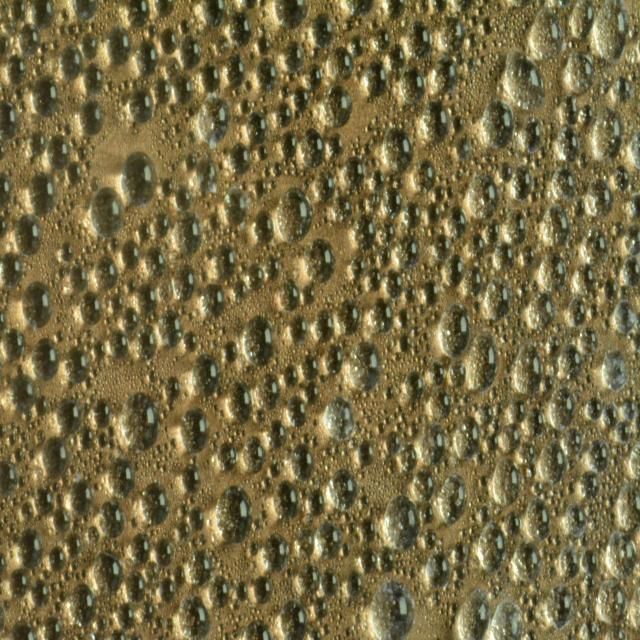dr: (371, 579, 414, 640), (506, 50, 545, 112), (122, 395, 160, 451), (214, 485, 252, 541), (594, 1, 628, 61), (383, 496, 420, 551), (467, 330, 498, 394), (121, 153, 159, 205), (277, 188, 313, 241), (438, 303, 472, 356), (89, 189, 125, 238), (20, 280, 54, 330), (242, 316, 275, 366), (528, 12, 563, 59), (594, 106, 622, 164), (481, 100, 514, 149), (198, 95, 230, 145), (348, 342, 381, 389), (459, 590, 490, 640), (420, 97, 450, 148), (303, 240, 337, 285), (490, 595, 524, 640), (316, 86, 355, 125), (93, 549, 124, 598), (27, 171, 59, 217), (323, 396, 356, 440), (439, 476, 468, 526), (607, 532, 636, 581), (479, 523, 507, 573), (383, 127, 414, 172), (181, 407, 210, 455), (492, 458, 521, 506), (178, 596, 210, 639), (512, 540, 543, 584), (537, 441, 568, 484), (542, 204, 570, 251), (191, 354, 220, 398), (548, 387, 576, 432), (517, 344, 541, 396), (31, 76, 61, 117), (598, 583, 627, 625), (106, 458, 137, 497), (279, 600, 309, 640), (455, 415, 481, 461), (547, 586, 574, 630), (69, 583, 97, 625), (485, 278, 513, 320), (470, 175, 498, 217), (566, 53, 594, 95), (420, 421, 446, 466), (15, 215, 44, 255), (327, 471, 358, 508), (175, 213, 202, 255), (42, 438, 70, 478), (142, 484, 170, 524), (226, 381, 252, 424), (327, 45, 354, 86), (273, 481, 301, 520), (32, 340, 59, 380), (526, 496, 550, 541), (273, 0, 310, 29), (539, 253, 568, 290), (582, 226, 608, 267), (602, 354, 630, 392), (405, 19, 432, 58), (11, 375, 38, 414), (262, 534, 289, 572), (618, 485, 640, 531), (432, 58, 458, 96), (426, 552, 452, 590), (80, 97, 105, 136), (395, 232, 420, 271), (317, 521, 342, 560), (529, 294, 556, 330), (212, 243, 238, 280), (312, 11, 336, 51), (400, 64, 424, 104), (243, 436, 267, 476), (224, 187, 249, 225), (369, 298, 394, 336), (65, 346, 90, 384), (570, 0, 595, 38), (587, 180, 614, 215), (60, 42, 84, 81), (300, 131, 326, 167), (438, 19, 465, 53), (185, 551, 212, 585), (107, 26, 131, 64), (159, 312, 183, 350), (70, 476, 94, 514), (19, 530, 43, 568), (587, 436, 611, 474), (291, 445, 315, 482), (0, 99, 20, 143), (129, 87, 154, 122), (100, 503, 125, 538), (94, 256, 118, 292), (56, 400, 80, 436), (194, 158, 217, 195), (257, 373, 280, 410), (352, 214, 377, 248), (48, 132, 70, 170), (135, 40, 158, 76), (246, 109, 269, 145), (1, 252, 24, 288), (253, 208, 275, 245), (173, 264, 195, 301), (255, 57, 278, 92), (558, 126, 579, 164), (19, 24, 41, 60), (135, 324, 157, 360), (413, 469, 437, 502), (504, 212, 528, 245), (337, 300, 360, 334), (201, 283, 224, 317), (499, 424, 525, 454), (512, 161, 532, 200), (411, 162, 436, 193), (564, 503, 586, 538), (560, 347, 584, 379), (365, 63, 388, 96), (80, 293, 103, 326), (522, 115, 543, 151), (180, 36, 202, 70), (314, 170, 336, 204), (428, 389, 452, 420), (223, 55, 244, 90), (332, 193, 353, 228), (524, 404, 546, 437), (560, 545, 580, 581), (574, 262, 594, 298), (552, 170, 576, 200), (279, 280, 300, 314), (283, 42, 306, 73), (252, 575, 275, 606), (82, 63, 104, 95), (136, 282, 158, 314), (209, 575, 229, 610), (230, 13, 251, 46), (4, 328, 25, 361), (614, 299, 635, 332), (313, 310, 335, 341), (346, 159, 366, 193), (580, 468, 600, 502), (121, 238, 142, 270), (381, 186, 402, 218), (130, 534, 151, 566), (68, 264, 90, 294), (243, 618, 273, 640), (298, 565, 320, 595), (145, 248, 166, 279), (345, 570, 366, 601), (0, 461, 18, 497), (492, 244, 515, 272), (6, 54, 27, 84), (126, 571, 145, 604), (126, 1, 150, 27), (445, 255, 465, 286), (446, 207, 466, 238), (288, 314, 310, 342), (109, 329, 130, 358), (294, 529, 315, 558), (31, 3, 55, 28), (287, 395, 307, 425), (580, 326, 600, 356), (561, 431, 584, 457), (27, 128, 48, 156), (153, 538, 174, 566), (202, 62, 222, 91), (9, 569, 29, 598), (612, 76, 632, 105), (272, 102, 294, 128), (506, 399, 528, 425), (232, 144, 251, 174), (35, 487, 54, 517), (463, 266, 482, 296), (217, 443, 237, 471), (403, 201, 421, 232), (561, 94, 579, 125), (182, 463, 201, 492), (203, 0, 225, 25), (432, 234, 453, 260), (9, 622, 39, 640), (568, 297, 586, 327), (465, 233, 485, 260), (175, 76, 194, 104), (152, 78, 172, 104), (580, 549, 600, 575), (343, 0, 375, 16), (325, 346, 343, 374), (268, 421, 286, 449), (398, 444, 416, 472), (32, 580, 50, 608), (405, 373, 424, 399), (386, 270, 403, 299), (309, 489, 326, 518), (247, 264, 265, 291), (448, 360, 466, 387), (0, 170, 12, 210), (321, 569, 338, 597), (73, 0, 99, 18), (95, 400, 113, 426), (388, 44, 405, 71), (379, 218, 396, 245), (305, 66, 324, 90), (303, 350, 318, 380), (358, 441, 376, 466), (624, 228, 640, 256), (159, 578, 176, 604), (623, 260, 640, 286), (281, 131, 297, 158), (117, 604, 135, 628), (614, 164, 630, 191), (328, 133, 345, 158), (158, 278, 175, 303), (505, 513, 522, 538), (161, 27, 176, 55), (630, 590, 640, 632), (384, 0, 406, 19), (122, 307, 138, 333), (50, 546, 66, 572), (630, 129, 640, 170), (153, 215, 170, 239), (420, 280, 437, 304), (614, 419, 631, 443), (456, 137, 473, 161), (366, 267, 382, 292), (349, 257, 365, 282), (372, 29, 391, 50), (44, 618, 62, 640), (188, 508, 205, 531), (361, 548, 376, 574), (378, 546, 393, 572), (629, 444, 640, 479), (293, 86, 309, 110), (430, 362, 446, 386), (83, 32, 97, 59), (176, 184, 191, 209), (223, 341, 240, 363), (54, 509, 70, 532), (387, 431, 402, 455), (11, 0, 28, 21), (165, 378, 181, 400), (519, 441, 535, 463), (520, 246, 536, 268), (604, 404, 619, 427), (452, 541, 469, 561), (146, 562, 159, 588), (369, 170, 385, 191), (427, 202, 441, 226), (265, 255, 279, 279), (80, 425, 94, 449), (66, 534, 82, 555), (361, 518, 375, 542), (283, 366, 298, 388), (167, 57, 180, 82), (155, 0, 173, 18), (379, 246, 393, 269), (604, 626, 627, 640), (214, 36, 230, 56), (586, 398, 602, 418), (68, 160, 81, 184), (581, 103, 594, 127), (0, 35, 11, 63), (306, 381, 320, 403), (422, 529, 437, 549), (623, 397, 635, 422), (486, 220, 499, 243), (254, 178, 268, 199), (301, 284, 315, 305), (234, 280, 247, 302), (183, 332, 198, 351), (351, 36, 365, 56), (92, 340, 106, 360), (313, 598, 327, 618), (420, 504, 434, 524), (546, 335, 560, 355), (2, 18, 18, 35), (160, 178, 174, 197), (61, 242, 73, 264), (397, 309, 410, 329), (110, 294, 124, 312), (176, 521, 190, 539), (478, 502, 490, 523), (428, 592, 442, 610), (486, 434, 500, 452), (630, 193, 640, 218), (258, 36, 271, 55), (368, 191, 381, 210), (138, 224, 151, 243), (142, 602, 154, 622), (604, 279, 618, 296), (35, 396, 48, 414), (399, 336, 412, 354), (87, 526, 100, 544), (480, 404, 493, 422), (581, 622, 594, 640), (499, 164, 512, 182), (434, 183, 445, 204), (236, 581, 248, 600), (574, 199, 586, 218), (178, 19, 192, 35), (167, 100, 180, 117), (239, 98, 252, 115), (452, 0, 472, 11), (584, 576, 596, 594), (506, 0, 533, 8), (175, 566, 185, 587), (177, 503, 190, 519), (532, 480, 545, 496), (631, 331, 640, 354), (404, 287, 416, 304), (186, 152, 197, 170), (210, 212, 221, 230), (358, 496, 372, 510), (22, 504, 34, 520), (590, 299, 600, 318), (629, 21, 639, 40), (0, 2, 11, 19), (109, 629, 126, 640), (0, 216, 8, 239), (147, 22, 157, 40), (258, 144, 268, 162), (0, 308, 6, 338), (0, 605, 6, 635), (478, 474, 490, 489), (482, 19, 494, 34), (270, 460, 281, 476), (614, 221, 625, 237), (18, 98, 28, 115), (98, 432, 108, 449), (434, 0, 447, 13), (417, 0, 428, 15), (272, 163, 283, 178), (340, 512, 351, 527), (453, 117, 464, 132), (90, 176, 100, 192), (457, 564, 467, 580), (635, 405, 640, 437), (488, 421, 501, 433), (357, 200, 368, 214), (0, 554, 7, 576), (240, 0, 257, 9), (249, 541, 259, 556), (409, 423, 419, 438), (342, 542, 352, 557), (548, 566, 557, 582), (468, 56, 476, 74), (78, 148, 89, 161), (367, 252, 377, 266), (148, 369, 158, 383), (384, 386, 394, 400), (527, 463, 537, 477), (590, 518, 600, 532), (34, 62, 43, 77), (8, 433, 17, 448), (88, 631, 103, 640), (469, 33, 478, 48), (185, 132, 196, 144), (14, 88, 24, 101), (262, 477, 272, 490), (526, 606, 534, 622), (568, 480, 576, 496), (127, 279, 136, 293), (55, 331, 64, 345), (451, 391, 460, 405), (601, 76, 608, 94), (61, 7, 69, 22), (342, 20, 354, 30), (70, 135, 78, 150), (56, 269, 66, 281), (585, 505, 595, 517), (606, 496, 614, 511), (518, 285, 528, 297), (580, 153, 588, 168), (479, 52, 487, 67), (40, 41, 49, 54), (520, 592, 529, 605), (409, 569, 417, 583), (376, 422, 386, 433), (231, 599, 241, 610), (462, 394, 472, 405), (37, 430, 46, 442), (494, 505, 503, 517), (489, 388, 498, 400), (565, 460, 574, 472), (363, 143, 371, 156), (18, 476, 26, 489), (189, 538, 197, 551), (630, 71, 639, 82), (16, 448, 23, 462), (533, 578, 540, 592), (545, 376, 552, 390), (312, 46, 320, 58), (106, 80, 114, 92), (244, 78, 252, 90), (370, 156, 378, 168), (200, 271, 208, 283), (85, 377, 93, 389), (302, 432, 310, 444), (301, 486, 309, 498), (98, 616, 106, 628), (313, 628, 321, 640), (527, 628, 535, 640), (206, 247, 213, 260), (397, 176, 404, 189), (0, 144, 5, 162), (203, 230, 212, 240), (480, 428, 489, 438), (494, 3, 504, 12), (302, 179, 310, 190), (387, 175, 395, 186), (390, 118, 398, 129), (76, 336, 84, 347), (43, 570, 51, 581), (366, 122, 373, 134), (28, 448, 35, 460), (199, 535, 206, 547), (533, 594, 539, 608), (486, 152, 493, 164), (539, 147, 546, 159), (451, 103, 458, 115), (494, 405, 503, 414), (322, 214, 330, 224), (108, 426, 116, 436), (58, 592, 66, 602), (155, 617, 163, 627), (476, 456, 486, 464), (530, 192, 538, 202), (249, 50, 255, 63), (0, 425, 6, 438), (614, 443, 620, 456), (430, 227, 437, 238), (162, 409, 169, 420), (109, 439, 116, 450), (165, 619, 172, 630), (454, 579, 461, 590), (442, 284, 449, 295), (531, 280, 538, 291), (533, 177, 540, 188), (354, 613, 361, 624), (258, 0, 267, 8), (16, 365, 24, 374), (332, 445, 341, 453), (542, 545, 548, 557), (532, 159, 540, 168), (68, 24, 75, 34), (85, 160, 92, 170), (85, 244, 92, 254), (220, 326, 227, 336), (57, 494, 64, 504), (253, 520, 260, 530), (71, 560, 78, 570), (349, 522, 356, 532), (262, 24, 268, 35), (189, 106, 195, 117), (283, 87, 289, 98), (264, 167, 270, 178), (12, 533, 18, 544), (131, 517, 137, 528), (312, 436, 318, 447), (65, 571, 71, 582), (552, 507, 558, 518), (597, 277, 603, 288), (234, 230, 242, 238), (270, 180, 277, 189), (85, 342, 92, 351), (68, 381, 75, 390), (0, 501, 7, 510), (399, 415, 408, 422), (449, 604, 456, 613), (590, 96, 597, 105), (472, 17, 479, 26), (511, 29, 518, 38), (40, 54, 46, 64), (78, 22, 84, 32), (66, 124, 71, 136), (353, 147, 359, 157), (5, 208, 11, 218), (242, 180, 248, 190), (84, 404, 90, 414), (90, 394, 96, 404), (171, 438, 177, 448), (56, 602, 61, 614), (35, 617, 41, 627), (552, 486, 558, 496), (568, 630, 574, 640), (612, 456, 618, 466), (548, 132, 554, 142), (161, 132, 169, 139), (174, 125, 181, 133), (285, 168, 292, 176), (70, 466, 77, 474), (190, 457, 197, 465), (395, 407, 403, 414), (387, 466, 395, 473), (447, 190, 454, 198), (478, 7, 485, 15), (522, 22, 529, 30), (54, 39, 59, 50), (456, 170, 461, 181), (301, 168, 307, 177), (343, 448, 349, 457), (361, 410, 367, 419), (556, 323, 562, 332), (502, 336, 508, 345), (526, 207, 532, 216), (380, 409, 390, 414), (5, 601, 10, 611), (356, 421, 361, 431), (554, 537, 559, 547), (574, 623, 579, 633), (293, 170, 300, 177), (76, 232, 82, 240), (222, 228, 228, 236), (337, 186, 343, 194), (211, 340, 217, 348), (21, 433, 27, 441), (163, 464, 169, 472), (325, 464, 331, 472), (50, 582, 56, 590), (456, 407, 462, 415), (548, 554, 554, 562), (578, 609, 584, 617), (548, 123, 554, 131), (344, 628, 350, 636), (399, 121, 404, 130), (92, 369, 97, 378), (262, 510, 267, 519), (190, 496, 195, 505), (482, 41, 487, 50), (124, 80, 130, 87), (56, 221, 62, 228), (383, 121, 389, 128), (414, 346, 420, 353), (94, 484, 100, 491), (366, 417, 373, 423), (395, 424, 401, 431), (158, 633, 164, 640), (164, 630, 170, 637), (360, 472, 366, 479), (492, 41, 498, 48), (374, 115, 379, 123), (64, 224, 69, 232), (71, 202, 76, 210), (284, 158, 289, 166), (292, 162, 297, 170), (438, 176, 443, 184), (279, 250, 284, 258), (242, 262, 247, 270), (217, 387, 222, 395), (157, 460, 161, 470), (212, 442, 217, 450), (230, 436, 235, 444), (291, 431, 296, 439), (59, 580, 64, 588), (83, 569, 87, 579), (369, 508, 374, 516), (592, 289, 597, 297), (10, 551, 14, 560), (153, 628, 159, 634), (13, 197, 18, 204), (57, 205, 62, 212), (62, 211, 67, 218), (217, 233, 222, 240), (31, 568, 36, 575), (503, 24, 508, 31), (411, 119, 415, 127), (70, 324, 74, 332), (1, 524, 5, 532), (215, 432, 219, 440), (323, 449, 327, 457), (75, 574, 79, 582), (176, 142, 181, 148), (63, 199, 68, 205), (10, 422, 15, 428), (337, 385, 342, 391), (414, 329, 419, 335), (385, 419, 390, 425), (558, 492, 564, 497), (446, 178, 451, 184), (61, 27, 65, 34), (119, 85, 123, 92), (70, 230, 74, 237), (392, 105, 396, 112), (87, 330, 91, 337), (320, 375, 324, 382), (424, 334, 428, 341), (236, 431, 240, 438), (232, 631, 236, 638), (376, 128, 380, 134), (68, 210, 72, 216), (332, 162, 336, 168), (106, 318, 110, 324), (182, 308, 185, 316), (56, 316, 60, 322), (0, 538, 3, 546), (500, 42, 504, 48), (189, 313, 192, 320), (28, 82, 32, 87), (208, 330, 213, 334), (68, 336, 72, 341), (10, 526, 14, 531), (3, 518, 7, 523), (92, 23, 95, 29), (242, 430, 245, 436), (52, 594, 55, 600), (549, 144, 552, 150), (230, 228, 234, 232), (76, 34, 79, 39), (213, 324, 216, 329), (165, 444, 168, 449), (24, 355, 26, 361), (166, 455, 168, 460), (72, 574, 74, 577)
